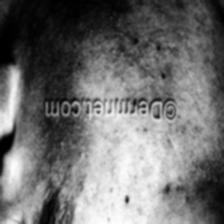Non-Cancerous Skin Condition: (23, 1, 223, 207)
